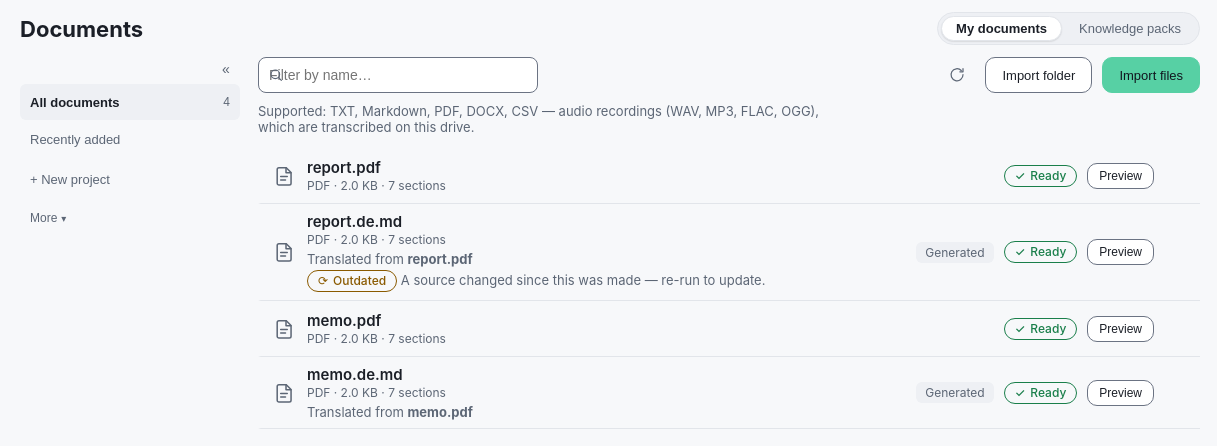
DocumentsScreen — organization › shows a quiet staleness badge on a generated row whose source changed, but not a fresh one
Click the button "More ▾": (130,218) [20,202,240,234]
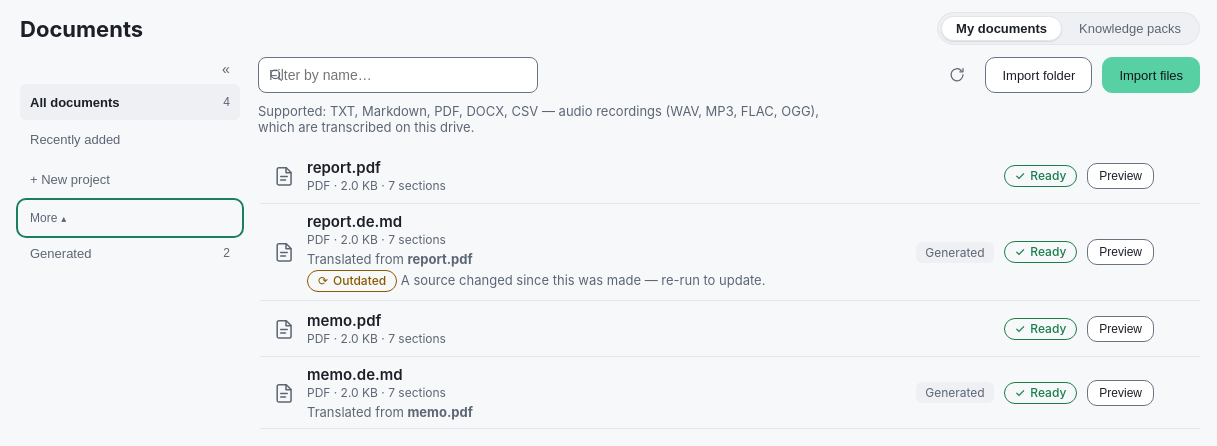
Click the button "Generated 2": (130,253) [20,235,240,271]
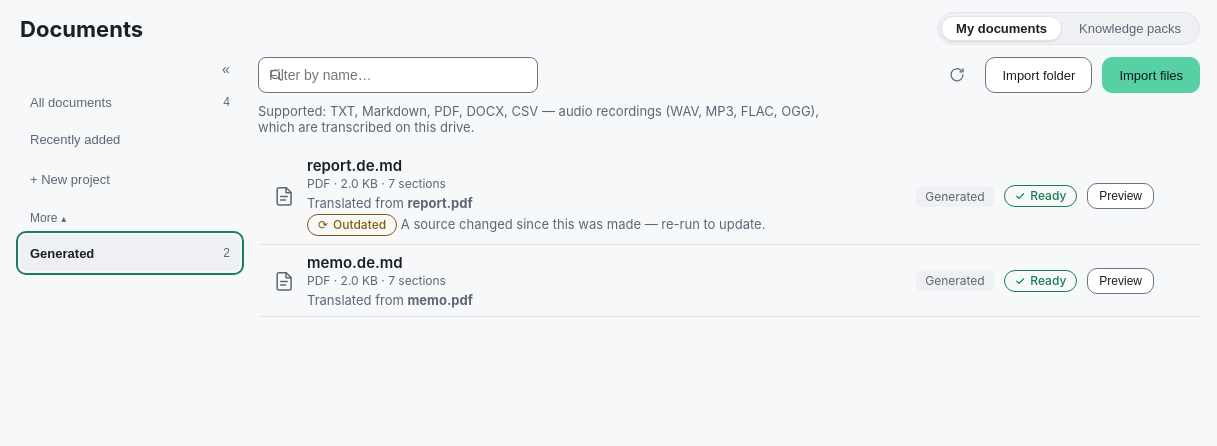
Expected: the text "report.de.md" is shown, [307,156,402,175]
Expected: the text "Outdated" is shown once, [307,214,397,236]
